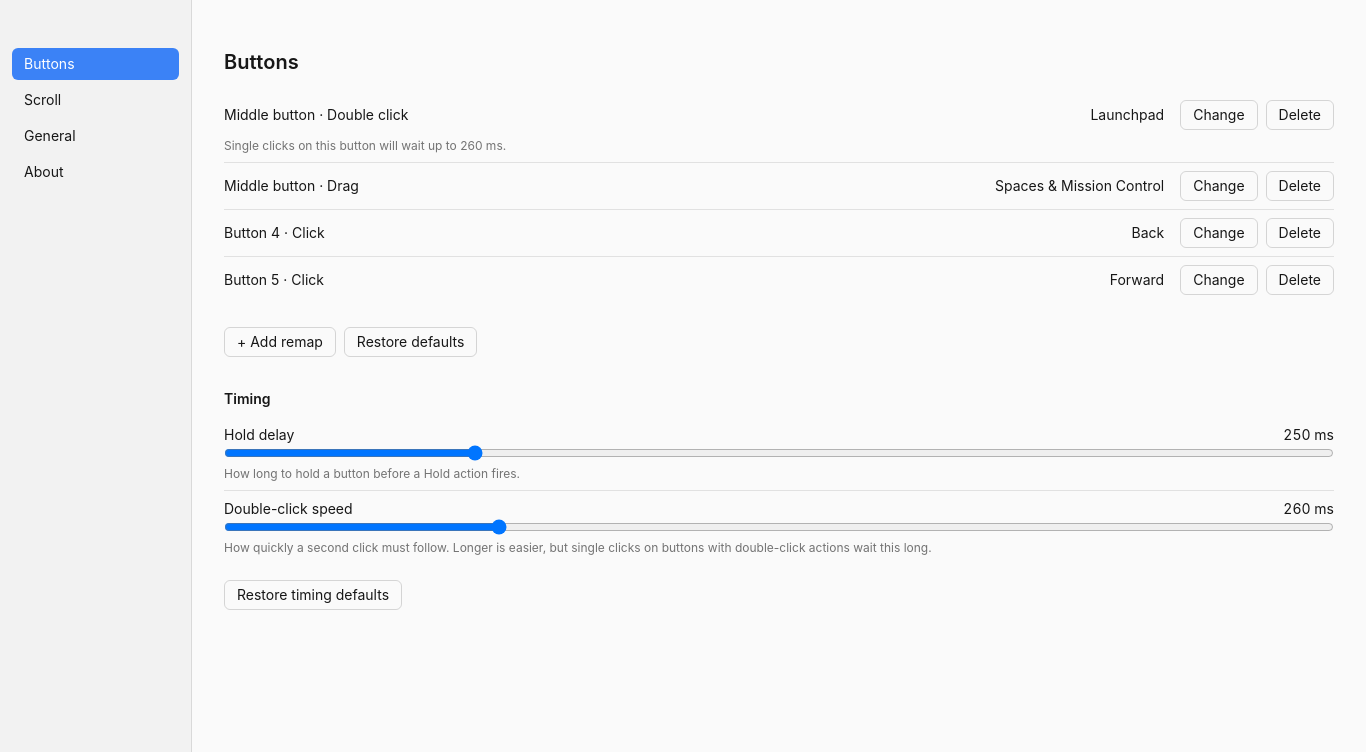
it: Buttons page › separate actions needs a direction before Add is enabled
Click the button "+ Add remap": [280, 342] box [224, 327, 336, 357]
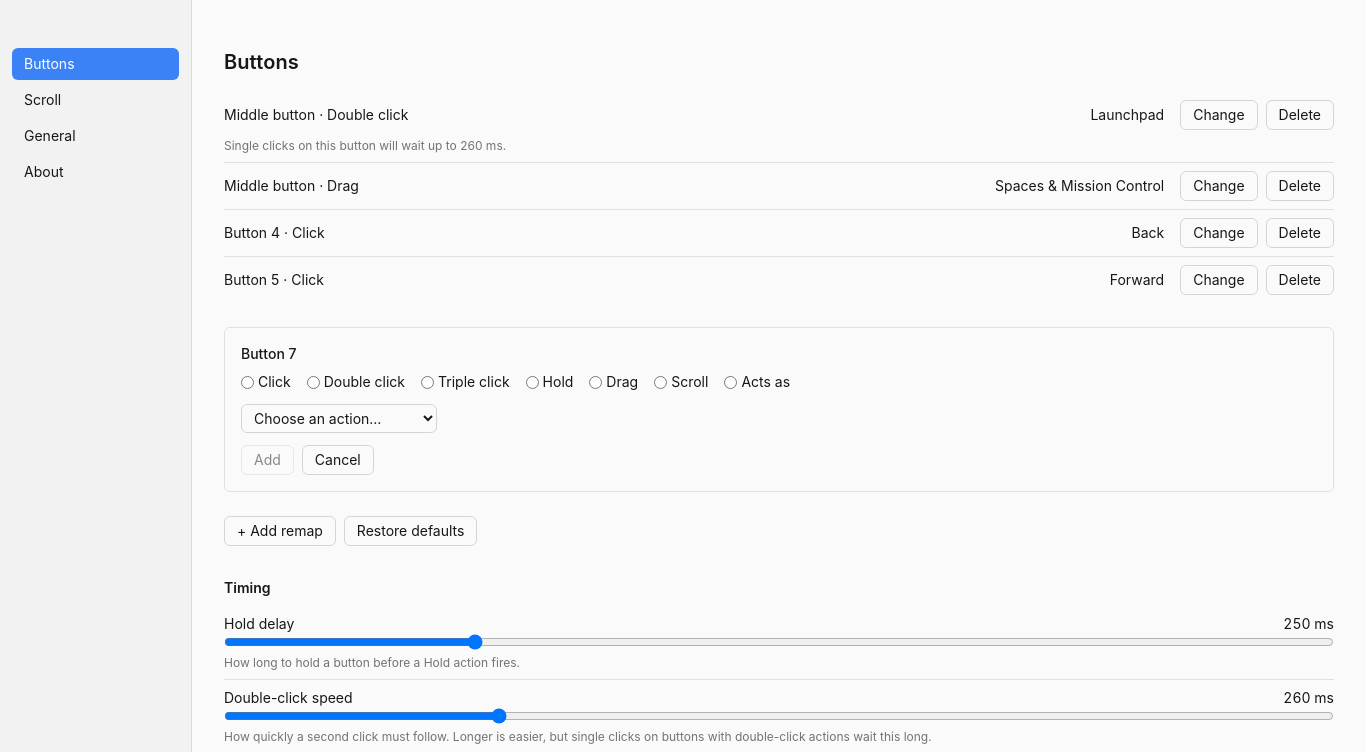
Click the radio button labelled "Drag": [596, 382] box [589, 376, 602, 388]
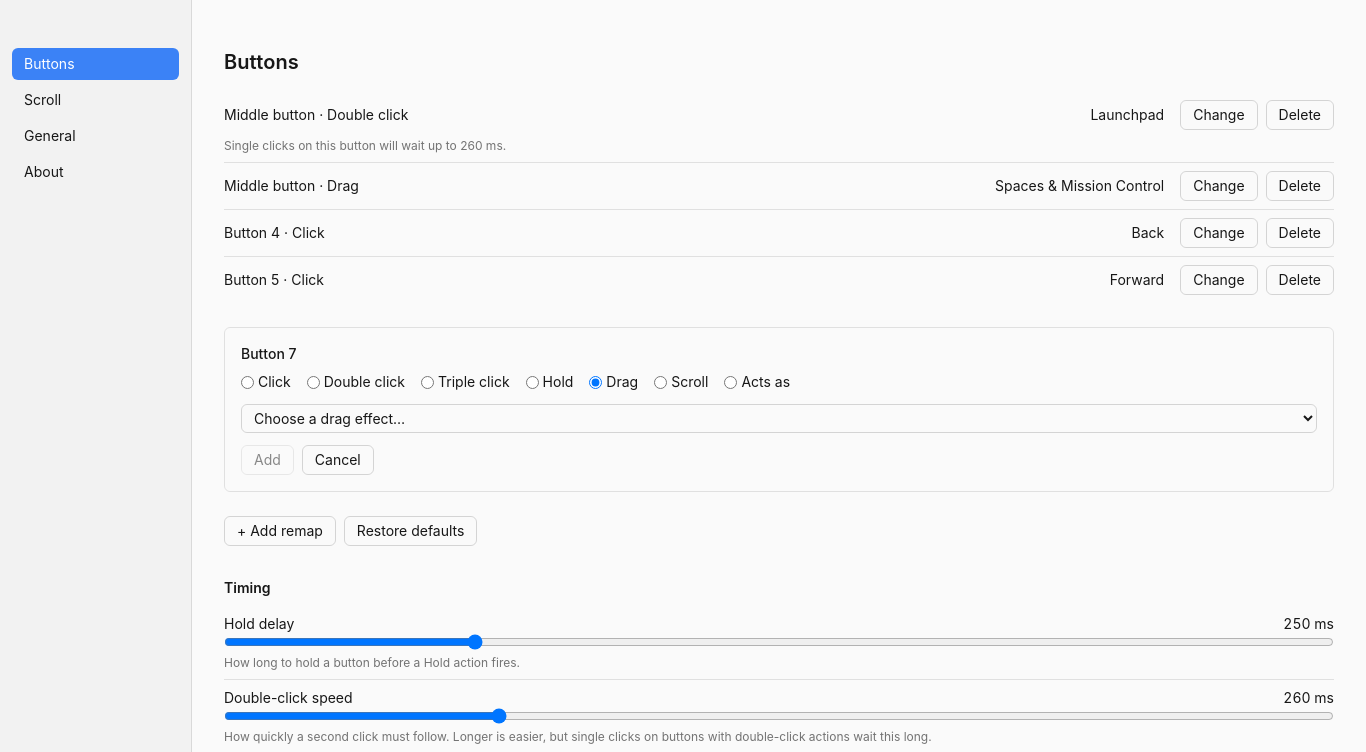
Select "Separate actions" in the dropdown named "Drag effect": [779, 418] box [241, 404, 1317, 433]
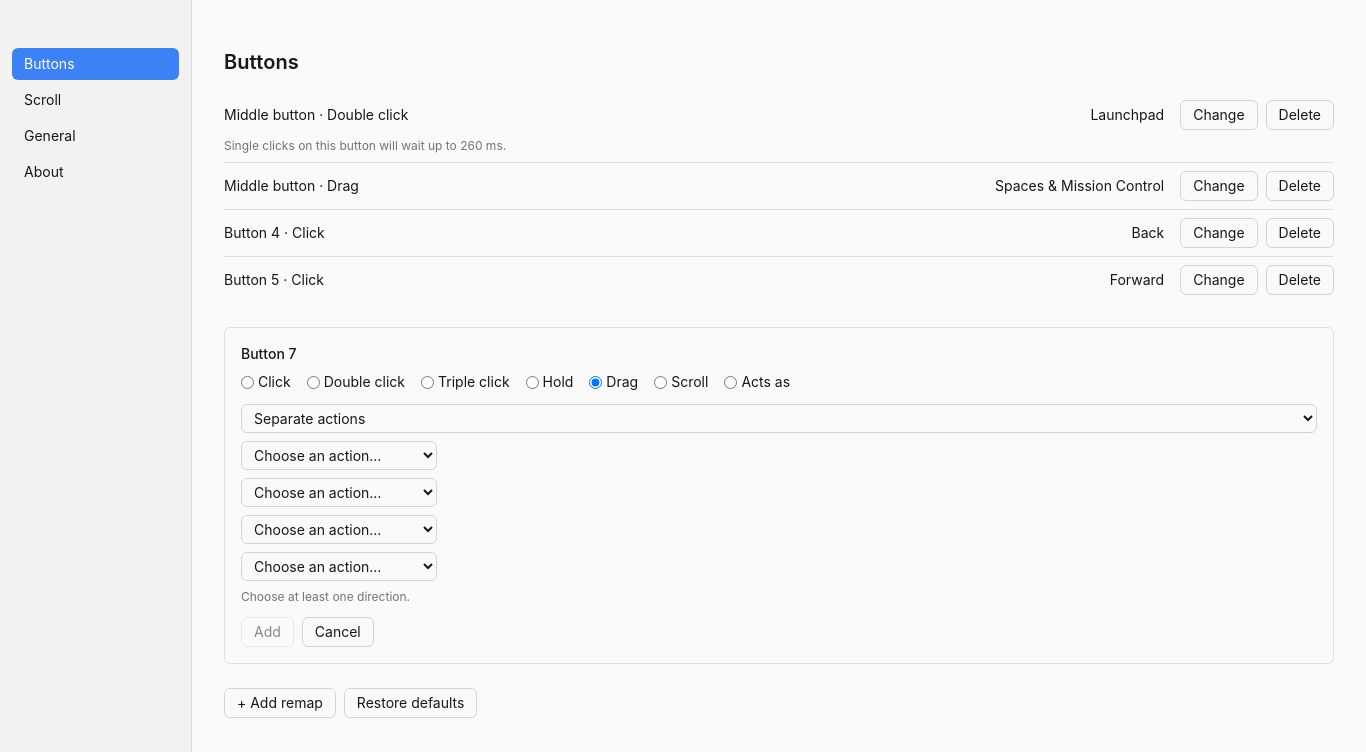
Now the button "Add" is disabled, box [241, 617, 294, 647]
Now the text "Choose at least one direction." is shown, box [241, 589, 410, 604]
Select "Back" in the dropdown named "Left": [339, 456] box [241, 441, 437, 470]
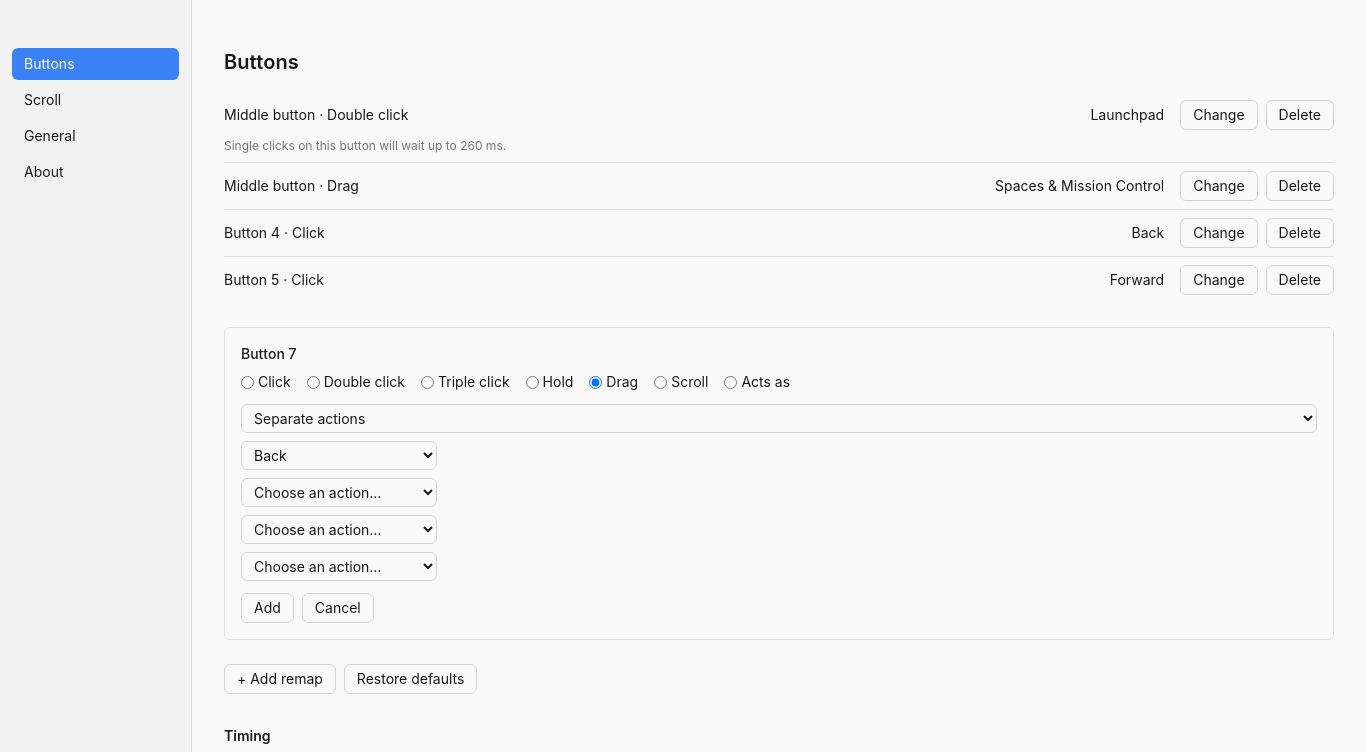
Now the text "Choose at least one direction." is gone
Now the button "Add" is enabled, box [241, 593, 294, 623]
